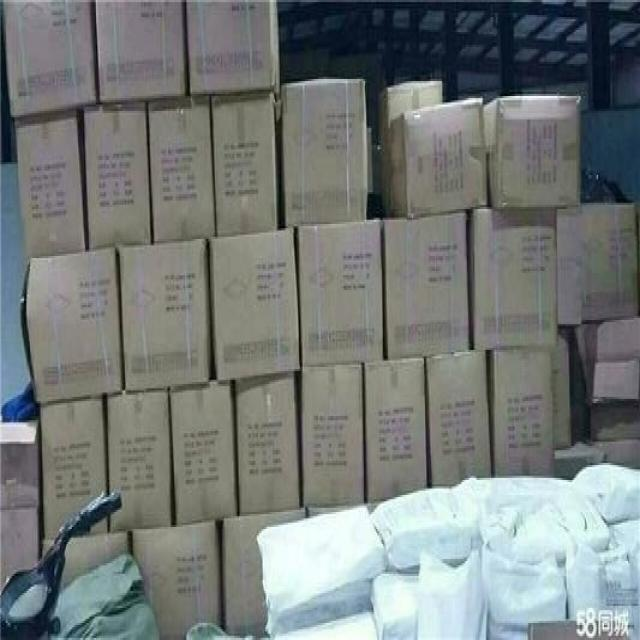box: (25, 247, 124, 403), (120, 237, 213, 390), (210, 224, 300, 380), (277, 77, 369, 224), (467, 207, 558, 350), (382, 211, 469, 358), (297, 220, 383, 365), (390, 96, 488, 215), (2, 0, 96, 119), (484, 96, 580, 211), (187, 0, 280, 117), (14, 109, 85, 260), (133, 521, 222, 638), (223, 510, 306, 634), (557, 203, 639, 326), (84, 102, 151, 252), (146, 96, 214, 243), (172, 380, 238, 527), (211, 92, 277, 237), (41, 397, 108, 538), (234, 375, 301, 516), (303, 363, 365, 510), (486, 346, 555, 478), (108, 390, 172, 531), (95, 2, 187, 100), (425, 350, 491, 486), (365, 358, 426, 501), (377, 79, 442, 211), (61, 533, 128, 587), (575, 318, 640, 363), (550, 333, 572, 448), (13, 418, 41, 508), (584, 358, 639, 399), (555, 435, 600, 480), (591, 405, 640, 442), (14, 508, 40, 567), (593, 439, 640, 467), (367, 128, 373, 192), (92, 516, 108, 531)
